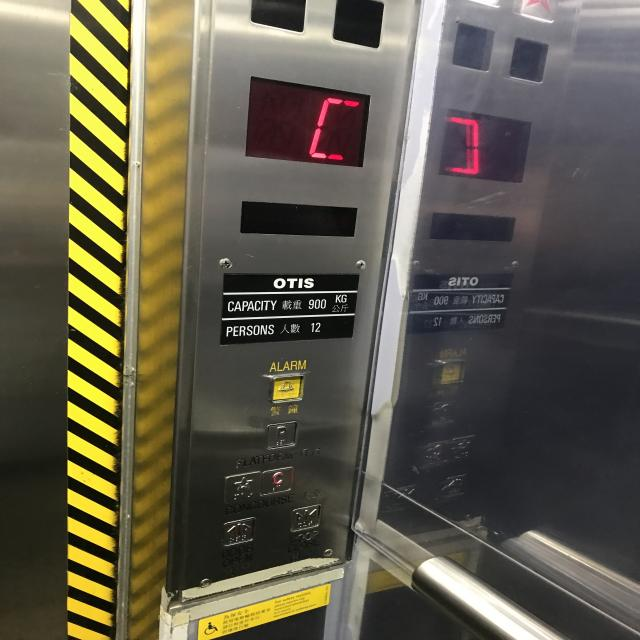C: (258, 465, 294, 497)
P: (264, 419, 298, 451)
alarm: (264, 372, 306, 403)
close: (287, 504, 322, 534)
led: (239, 70, 373, 168), (237, 196, 360, 240)
open: (220, 516, 256, 547)
s: (222, 470, 261, 506)
